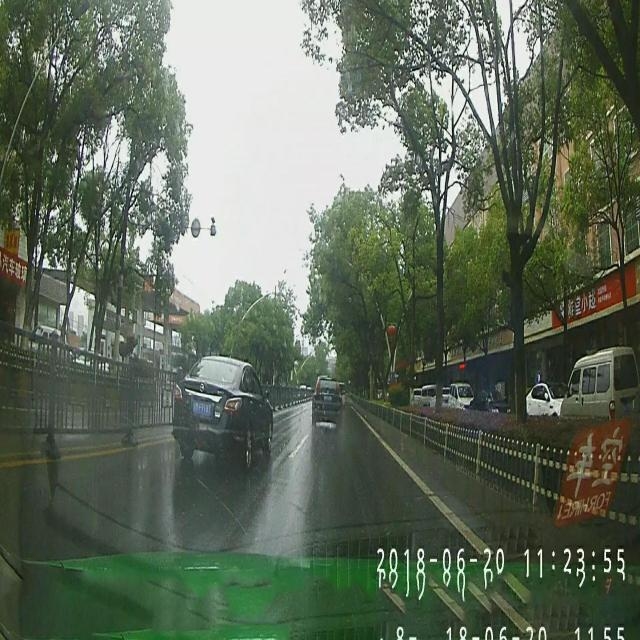car: (170, 354, 274, 462), (310, 375, 343, 430)
